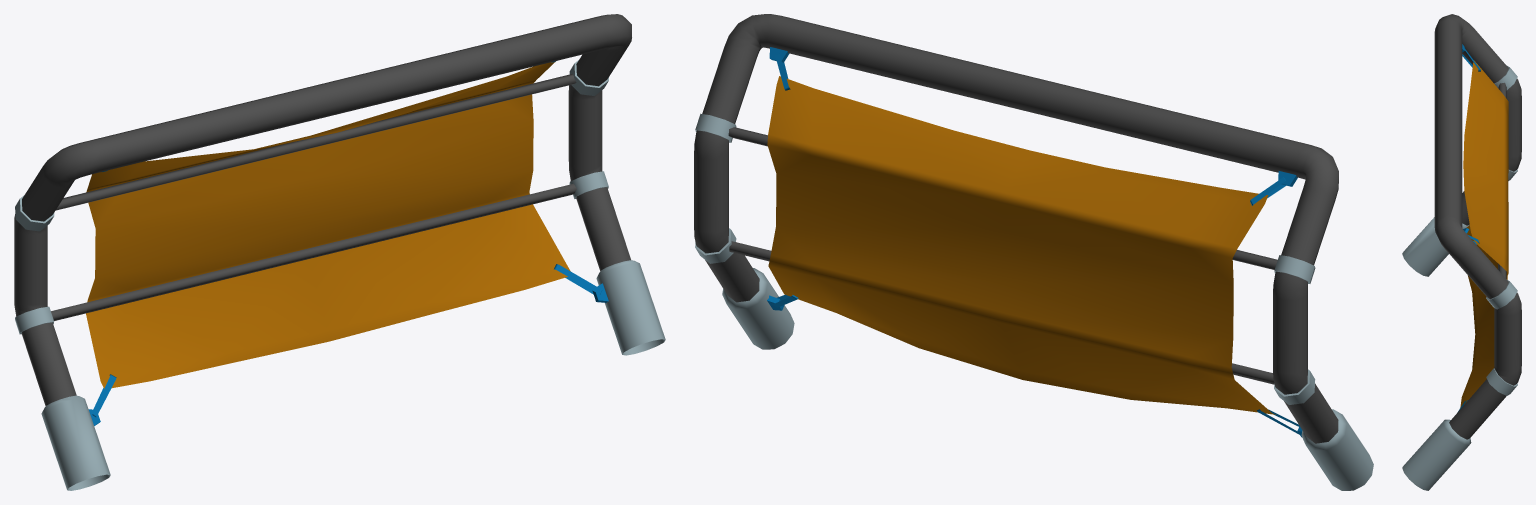
The model's file is env_building_warehouse01fence02A_lod0.fbx.
3 renders of one model, left to right at view 1: azimuth 30°, elevation 25°; view 2: azimuth 150°, elevation 25°; view 3: azimuth 270°, elevation 25°, orthographic. The views are drawn at different scales.
Parts seen in each view (by area): view 1: env_building_warehouse01fence02A_lod0; view 2: env_building_warehouse01fence02A_lod0; view 3: env_building_warehouse01fence02A_lod0.
Boxes of the visible parts, bbox=[...] form: env_building_warehouse01fence02A_lod0: bbox=[14, 14, 665, 490]; env_building_warehouse01fence02A_lod0: bbox=[694, 14, 1373, 490]; env_building_warehouse01fence02A_lod0: bbox=[1402, 14, 1521, 490].
Size of the model in its own units: 61.93 by 33.23 by 13.65.
